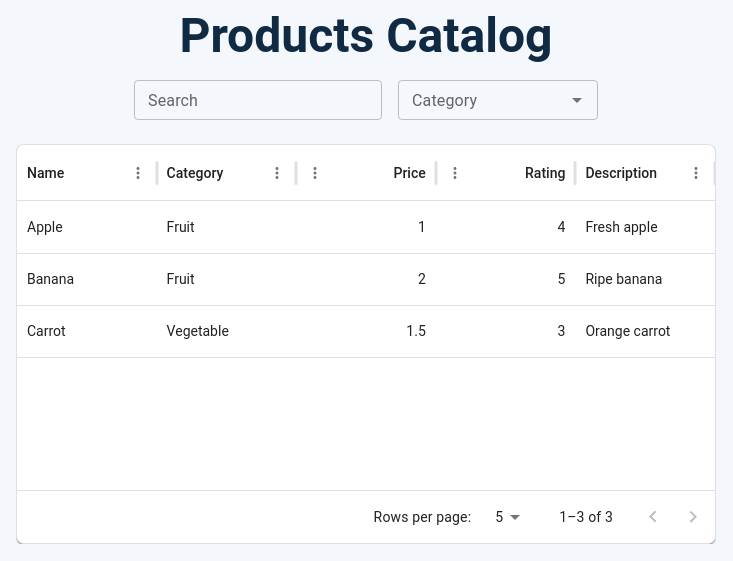
Test case: ProductsPage › filters products by search term
Type "Banana" into the field labelled "Search" at (258, 100), box [134,80,382,120]
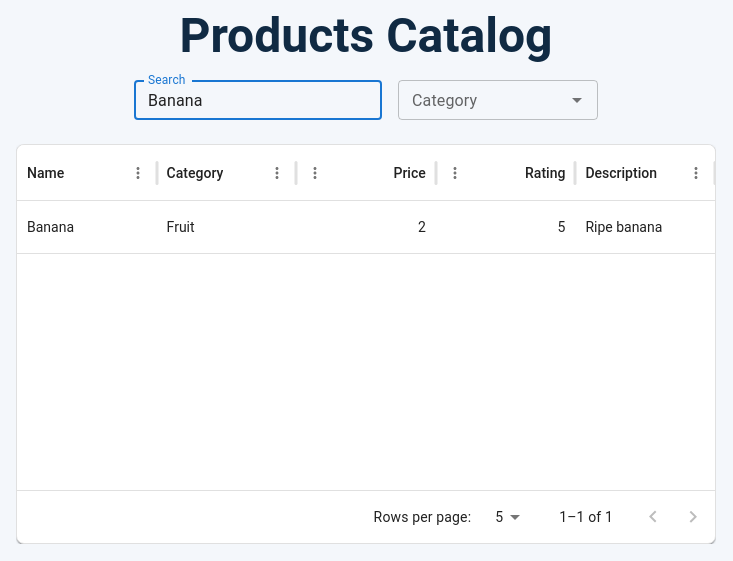
Expected: the text "Banana" is shown, [27,219,74,235]
Expected: the text "Apple" is gone
